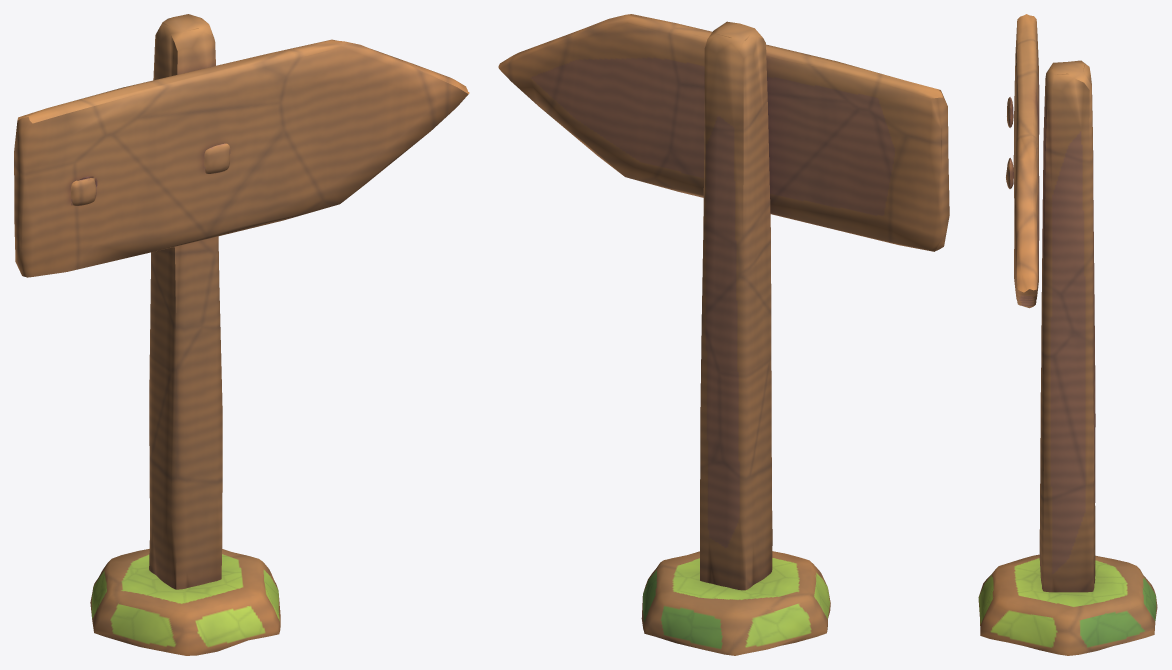
File: P02_DirectionSign.fbx
3 views of the same model, side by side, from view 1: azimuth 30°, elevation 25°; view 2: azimuth 150°, elevation 25°; view 3: azimuth 270°, elevation 25° (orthographic). The views are drawn at different scales.
Visible parts, largest first — view 1: P02_DirectionSign; view 2: P02_DirectionSign; view 3: P02_DirectionSign.
Boxes of the visible parts, <box> form: P02_DirectionSign: <box>14,14,469,655</box>; P02_DirectionSign: <box>498,14,949,655</box>; P02_DirectionSign: <box>978,14,1157,655</box>.
Size of the model in its own units: 1.19 by 1.5 by 0.4411.
